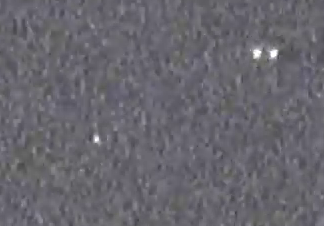Target: (95, 50, 277, 142)
